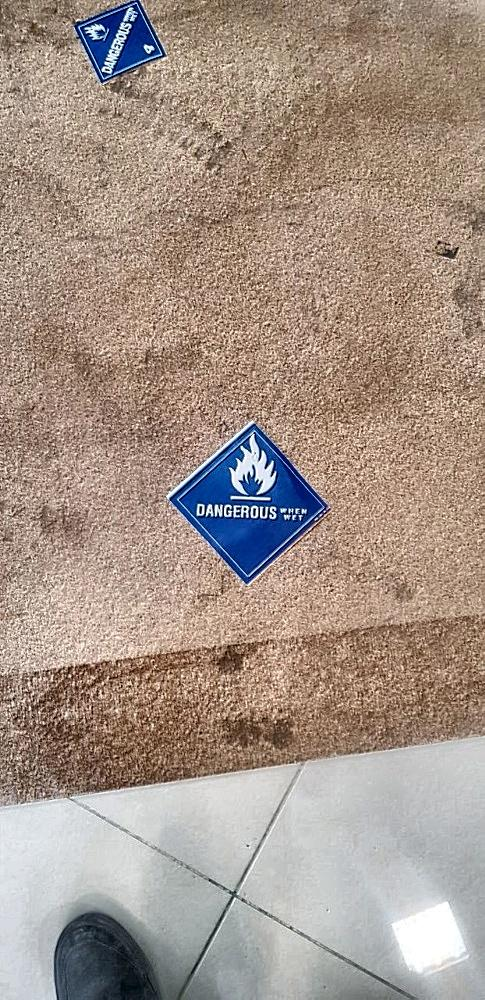dangerous-when-wet: (168, 422, 332, 583), (75, 1, 165, 84)
